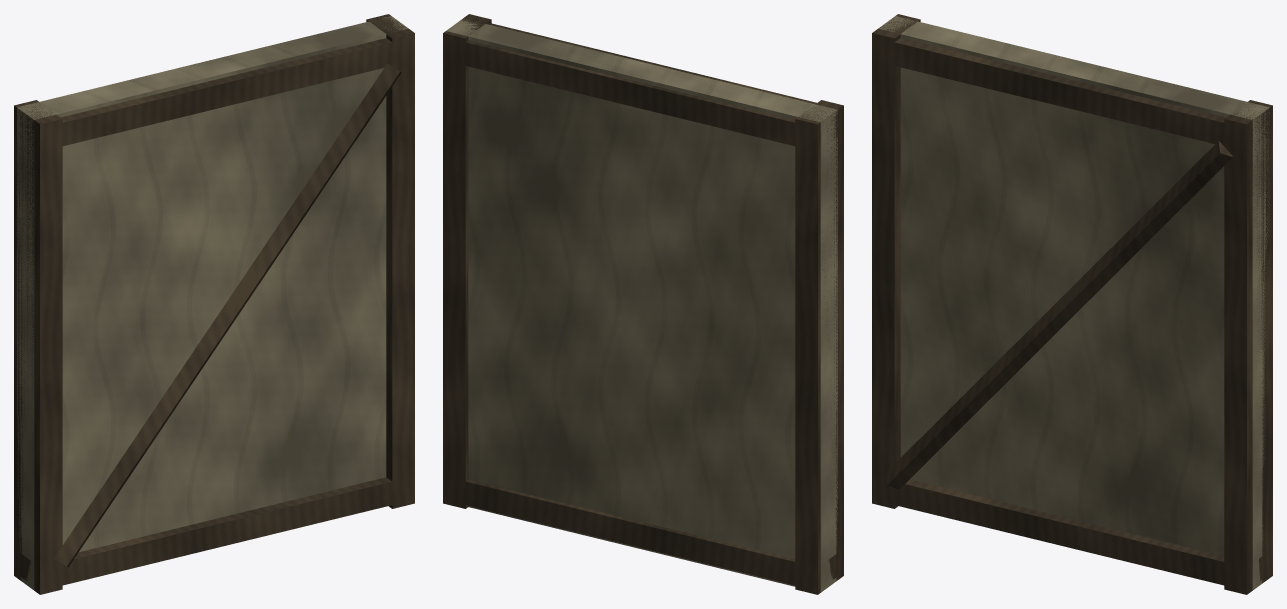
File: Wall_Plaster_2m.glb
The picture shows the model from 3 angles, left to right: view 1: azimuth 30°, elevation 25°; view 2: azimuth 150°, elevation 25°; view 3: azimuth 330°, elevation 25°; orthographic projection.
Visible parts, largest first — view 1: Wall_Plaster_2m; view 2: Wall_Plaster_2m; view 3: Wall_Plaster_2m.
Part boxes in pixels (x1,y1,x2,y2): Wall_Plaster_2m: (14,14,414,594); Wall_Plaster_2m: (443,14,843,594); Wall_Plaster_2m: (872,14,1272,594).
Bounding box in the file's own units: 2 × 2.4 × 0.295.
Materials: 2 (2 with a texture image).
